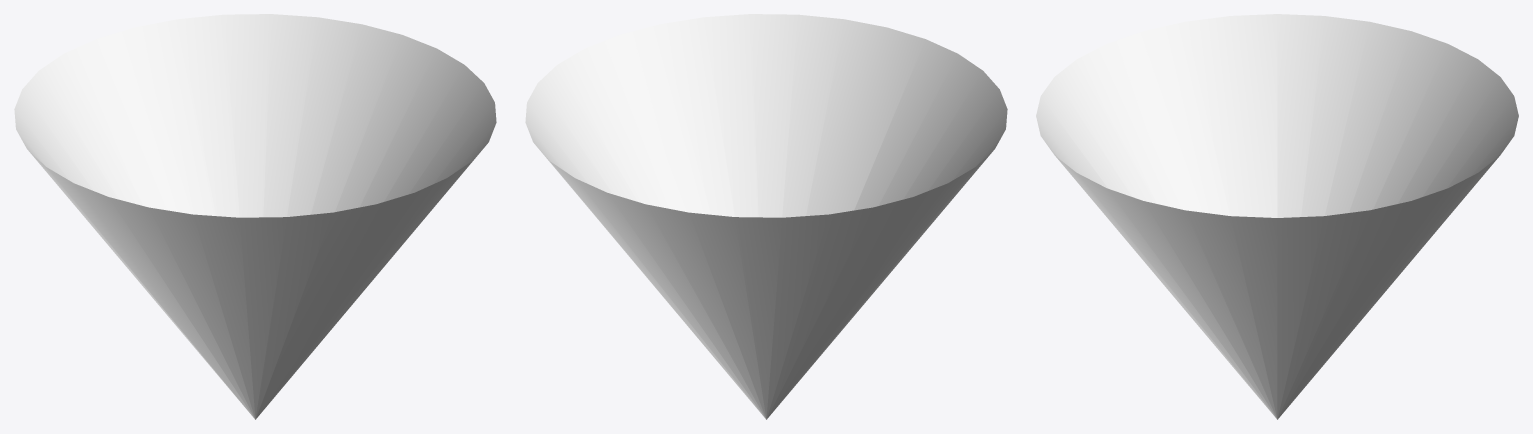
Rendered from LaronFakeShineLight.fbx.
3 renders of one model, left to right at view 1: azimuth 30°, elevation 25°; view 2: azimuth 150°, elevation 25°; view 3: azimuth 270°, elevation 25°, orthographic.
Parts seen in each view (by area): view 1: FakeShiner; view 2: FakeShiner; view 3: FakeShiner.
Boxes of the visible parts, x1,y1,x2,y2 form: FakeShiner: (14,14,496,419); FakeShiner: (525,14,1007,419); FakeShiner: (1036,14,1518,419).
Bounding box in the file's own units: 1440 × 1000 × 1440.
